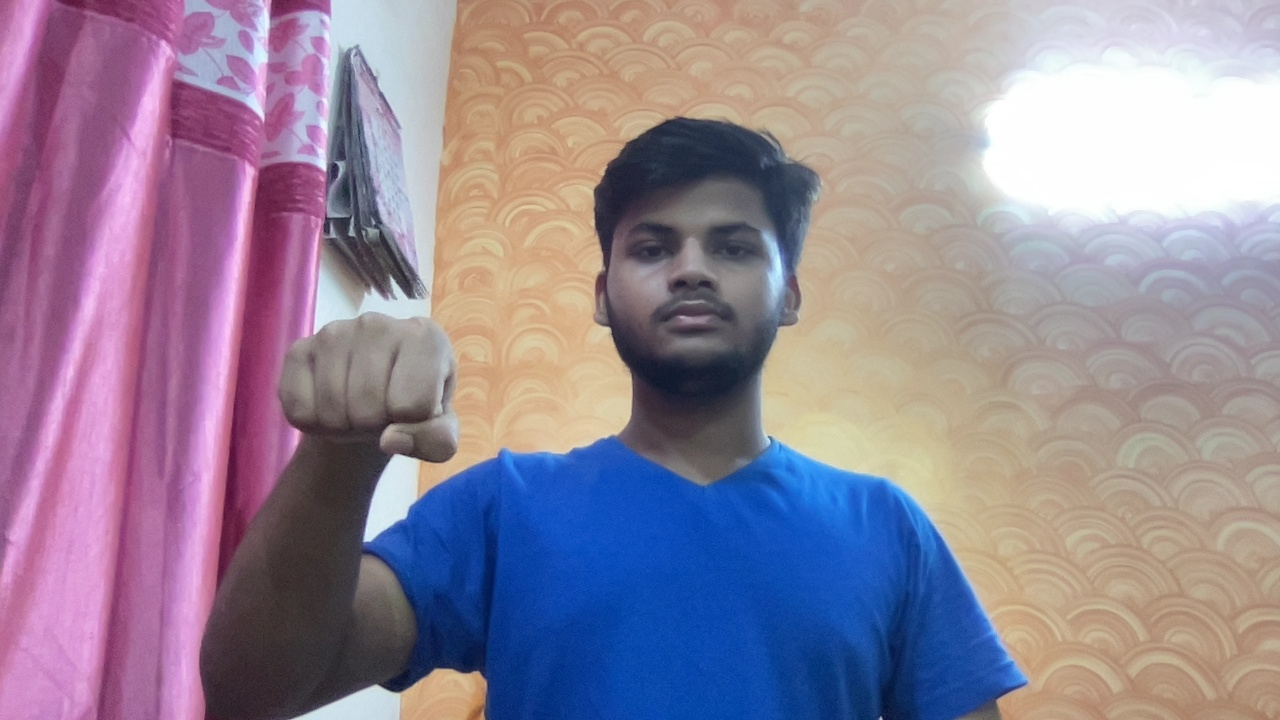yes: (224, 289, 502, 487)
